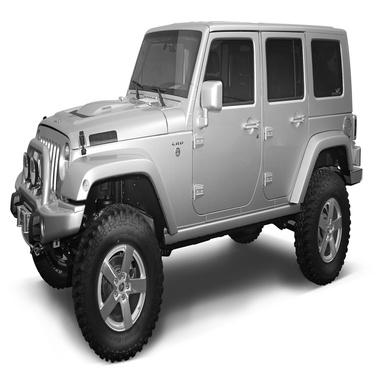car: (9, 13, 367, 364)
